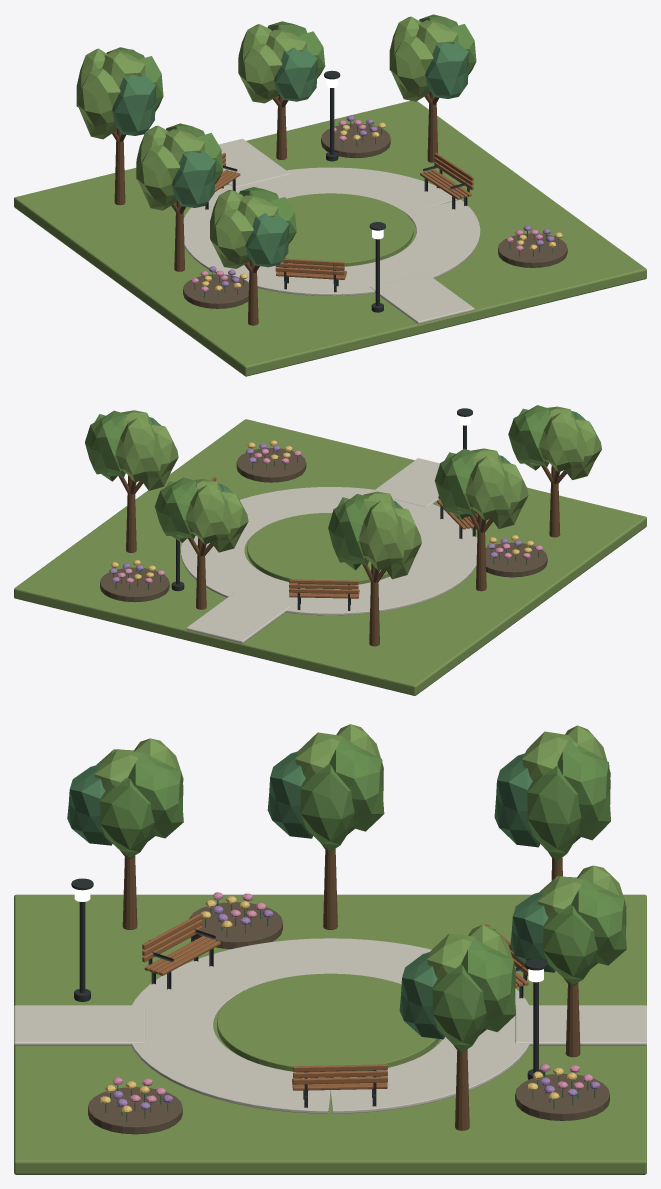
The model's file is COZY_NEIGHBORHOOD_PARK.fbx.
3 views of the same model, one above another, from view 1: azimuth 30°, elevation 25°; view 2: azimuth 150°, elevation 25°; view 3: azimuth 270°, elevation 25° (orthographic). The views are drawn at different scales.
Parts seen in each view (by area): view 1: UNITY_ASSET_COZY_NEIGHBORHOOD_PARK; view 2: UNITY_ASSET_COZY_NEIGHBORHOOD_PARK; view 3: UNITY_ASSET_COZY_NEIGHBORHOOD_PARK.
Boxes of the visible parts, x1,y1,x2,y2 form: UNITY_ASSET_COZY_NEIGHBORHOOD_PARK: [14, 14, 646, 376]; UNITY_ASSET_COZY_NEIGHBORHOOD_PARK: [14, 405, 646, 695]; UNITY_ASSET_COZY_NEIGHBORHOOD_PARK: [14, 724, 646, 1174].
Bounding box in the file's own units: 12 × 4.65 × 12.
